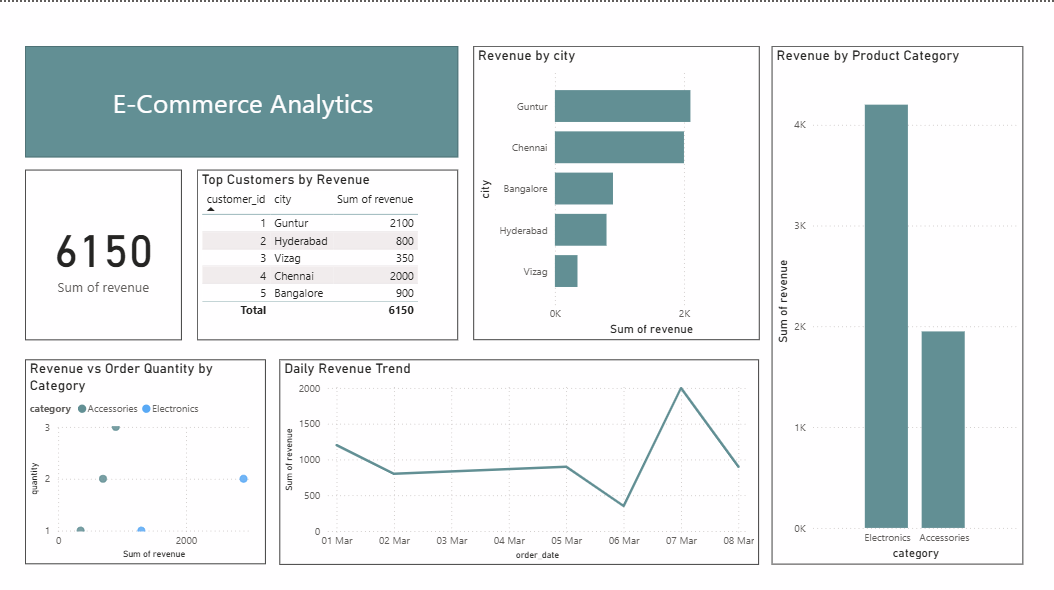

What the dashboard file says about the page in this screenshot:
{"tool":"powerbi","page":{"name":"Page 1","canvas":[1280,720],"ordinal":0},"visuals":[{"type":"card","fields":{"Values":["Sum(analytics fact_orders.revenue)"]},"box":[31.5,203.1,190,206.7],"z":0},{"type":"clusteredBarChart","title":"Revenue by city","fields":{"Category":["analytics dim_customers.city"],"Y":["Sum(analytics fact_orders.revenue)"]},"box":[575,53.3,346.7,356.7],"z":1000},{"type":"clusteredColumnChart","title":"Revenue by Product Category","fields":{"Category":["analytics dim_products.category"],"Y":["Sum(analytics fact_orders.revenue)"]},"box":[936.7,53.3,305,628.3],"z":2000},{"type":"tableEx","title":"Top Customers by Revenue","fields":{"Values":["analytics dim_customers.customer_id","analytics dim_customers.city","Sum(analytics fact_orders.revenue)"]},"box":[239.8,203.1,316.7,206.7],"z":3000},{"type":"scatterChart","title":"Revenue vs Order Quantity by Category","fields":{"X":["Sum(analytics fact_orders.revenue)"],"Y":["analytics fact_orders.quantity"],"Series":["analytics dim_products.category"]},"box":[31.5,433.1,291.7,248.3],"z":4000},{"type":"lineChart","title":"Daily Revenue Trend","fields":{"Y":["Sum(analytics fact_orders.revenue)"],"Category":["analytics fact_orders.order_date"]},"box":[340,432.9,581.4,248.6],"z":5000},{"type":"shape","box":[31.7,53.3,525,135],"z":6000},{"type":"textbox","box":[123.3,95,345,78.3],"z":7000}]}

Visuals, with their boxes in screenshot pixels (x1, y1, x2, y2), scaled from the page's 1280x720 canvas onto the 1054x590 screenshot:
card - Sum(analytics fact_orders.revenue): detection(26, 166, 182, 336)
"Revenue by city" clusteredBarChart: detection(473, 44, 759, 336)
"Revenue by Product Category" clusteredColumnChart: detection(771, 44, 1022, 559)
"Top Customers by Revenue" tableEx: detection(197, 166, 458, 336)
"Revenue vs Order Quantity by Category" scatterChart: detection(26, 355, 266, 558)
"Daily Revenue Trend" lineChart: detection(280, 355, 759, 558)
shape: detection(26, 44, 458, 154)
textbox: detection(102, 78, 386, 142)
